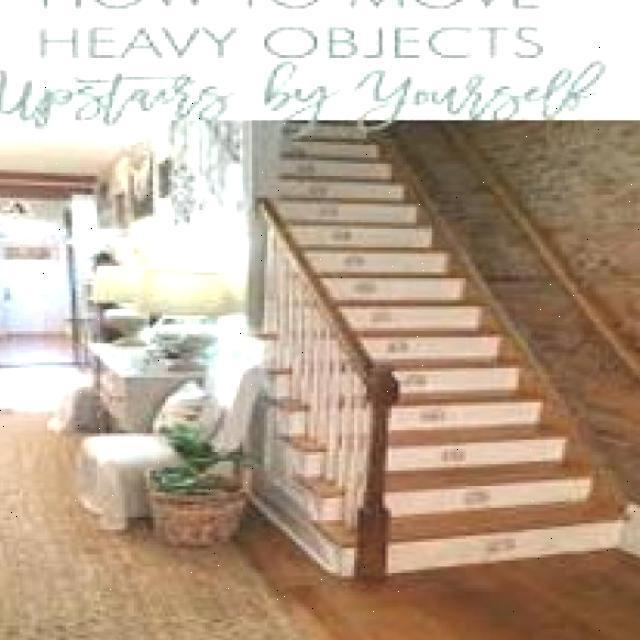stair: (327, 273, 621, 545)
